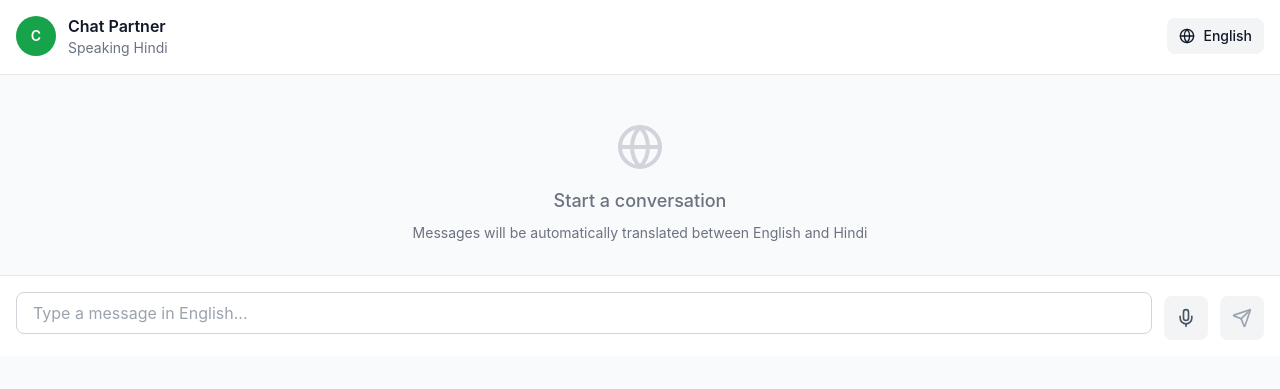
MultilingualChat › starts and stops voice recording
Click the button titled "Start voice recording". click: (1186, 318)
box: x1=1164 y1=296 x2=1208 y2=340
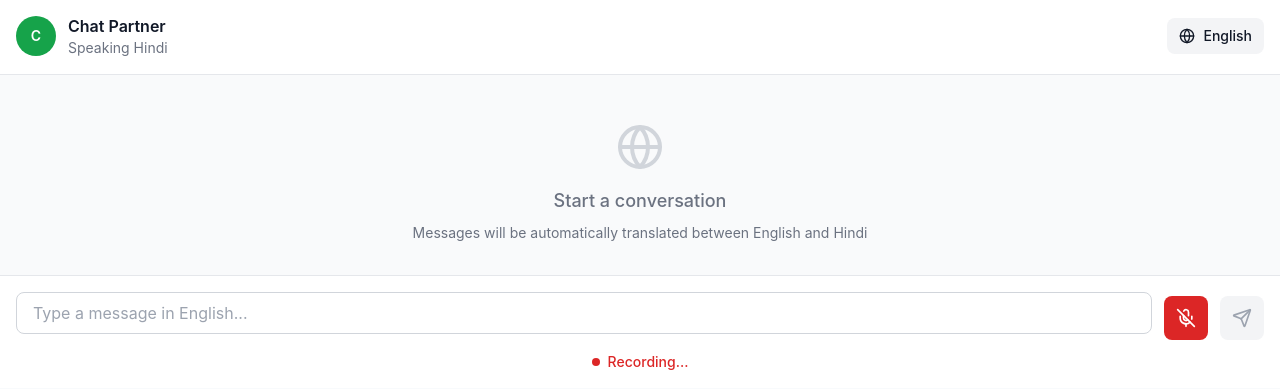
expect the text "Recording..." is shown: met, box x1=608 y1=352 x2=688 y2=372
Click the button titled "Stop recording". click: (1186, 318)
box: x1=1164 y1=296 x2=1208 y2=340
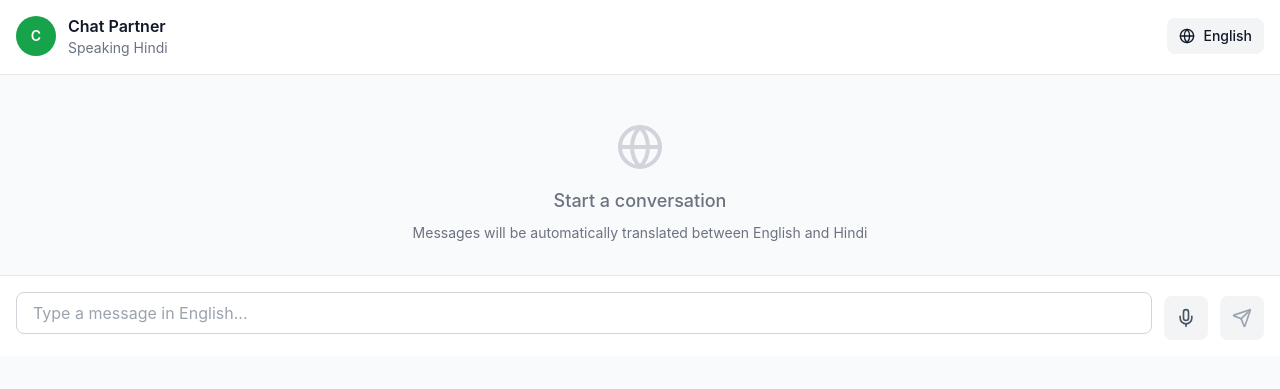
expect the text "Recording..." is gone: met
